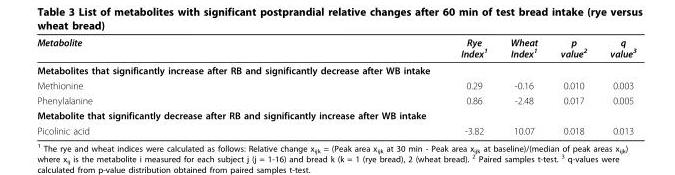table: (36, 36, 635, 135)
table column: (36, 36, 444, 135), (444, 36, 498, 135), (498, 36, 548, 135), (548, 36, 597, 135), (597, 36, 635, 135)
table column header: (36, 36, 635, 61)
table projected row header: (36, 61, 635, 77), (36, 107, 635, 122)
table row: (36, 36, 635, 61), (36, 61, 635, 77), (36, 77, 635, 92), (36, 92, 635, 107), (36, 107, 635, 122), (36, 122, 635, 135)
